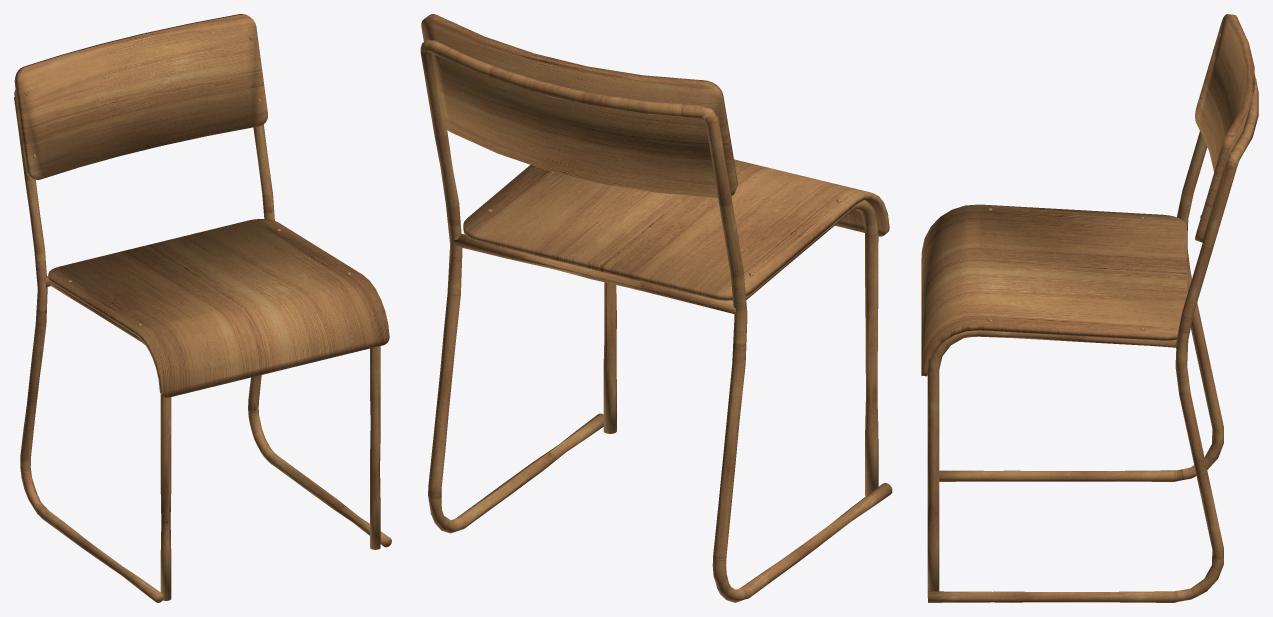
Rendered from gus-churchchair-whiteoak.glb.
3 renders of one model, left to right at view 1: azimuth 30°, elevation 25°; view 2: azimuth 150°, elevation 25°; view 3: azimuth 270°, elevation 25°, orthographic. The views are drawn at different scales.
Parts seen in each view (by area): view 1: Mesh_0.027; view 2: Mesh_0.027; view 3: Mesh_0.027.
Boxes of the visible parts, <box> form: Mesh_0.027: <box>14,14,391,602</box>; Mesh_0.027: <box>420,14,892,602</box>; Mesh_0.027: <box>921,14,1258,602</box>.
Bounding box in the file's own units: 45.88 × 78.95 × 51.36.
1 material, 1 textured.
